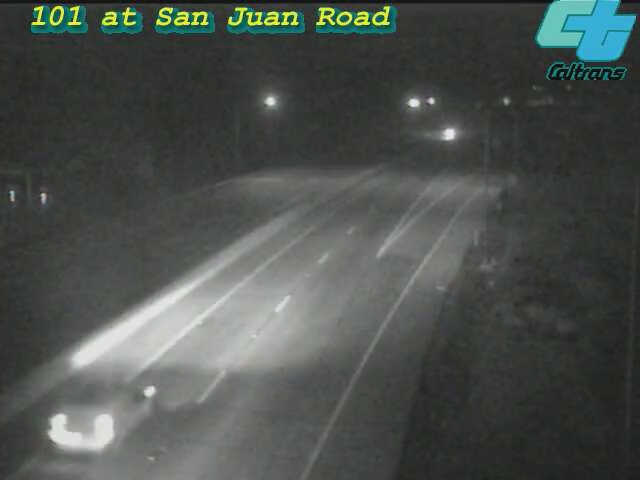vehicle: (40, 354, 150, 464), (426, 109, 476, 159)
